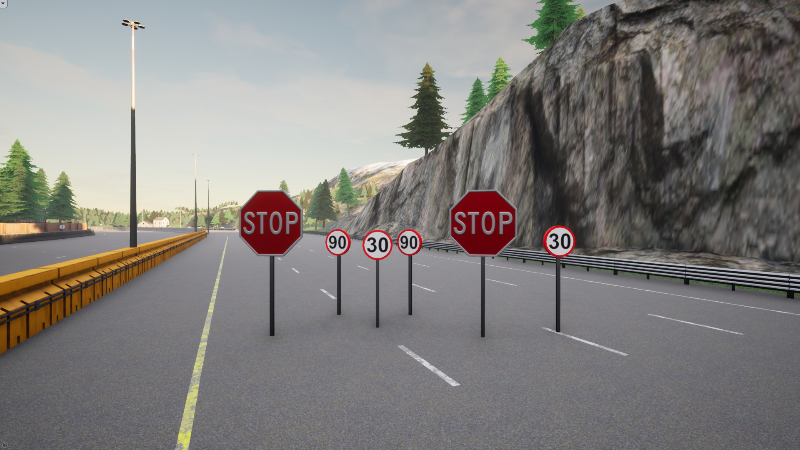fast: (396, 229, 423, 257), (325, 230, 351, 256)
slow: (542, 225, 576, 257), (362, 229, 393, 260)
stop: (449, 190, 518, 256), (239, 190, 304, 257)
